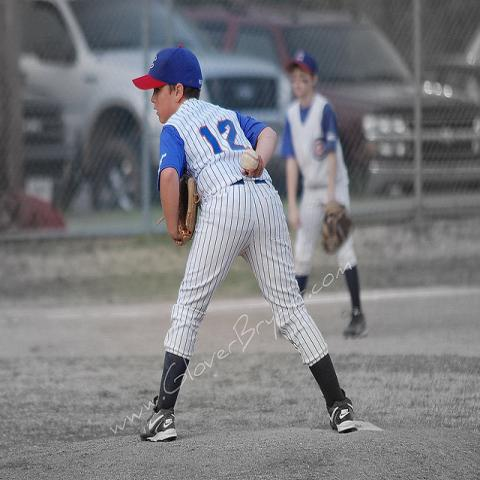car: (17, 2, 287, 207), (192, 7, 479, 198), (22, 78, 76, 212), (419, 34, 479, 117)
